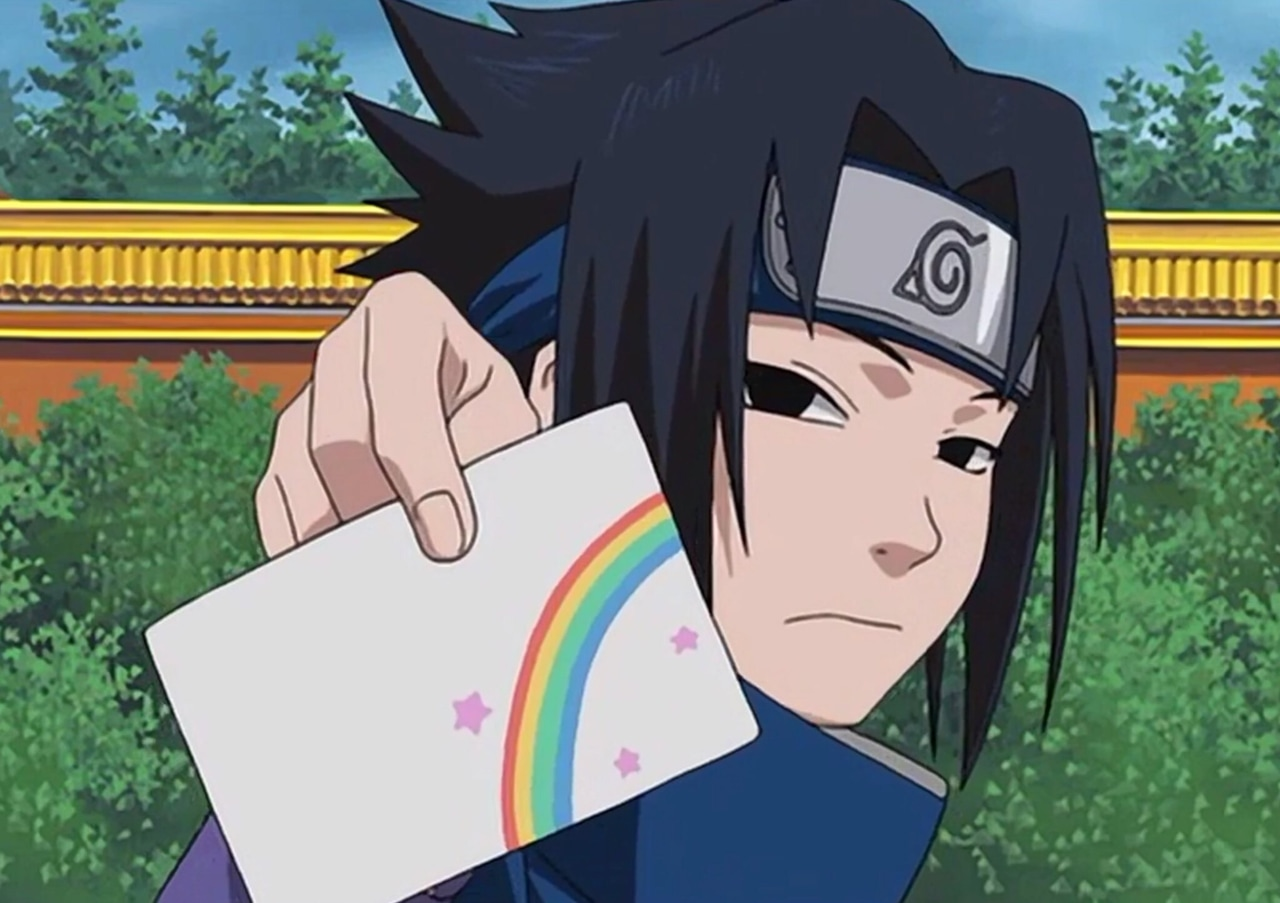sasuke: (468, 149, 1048, 738)
